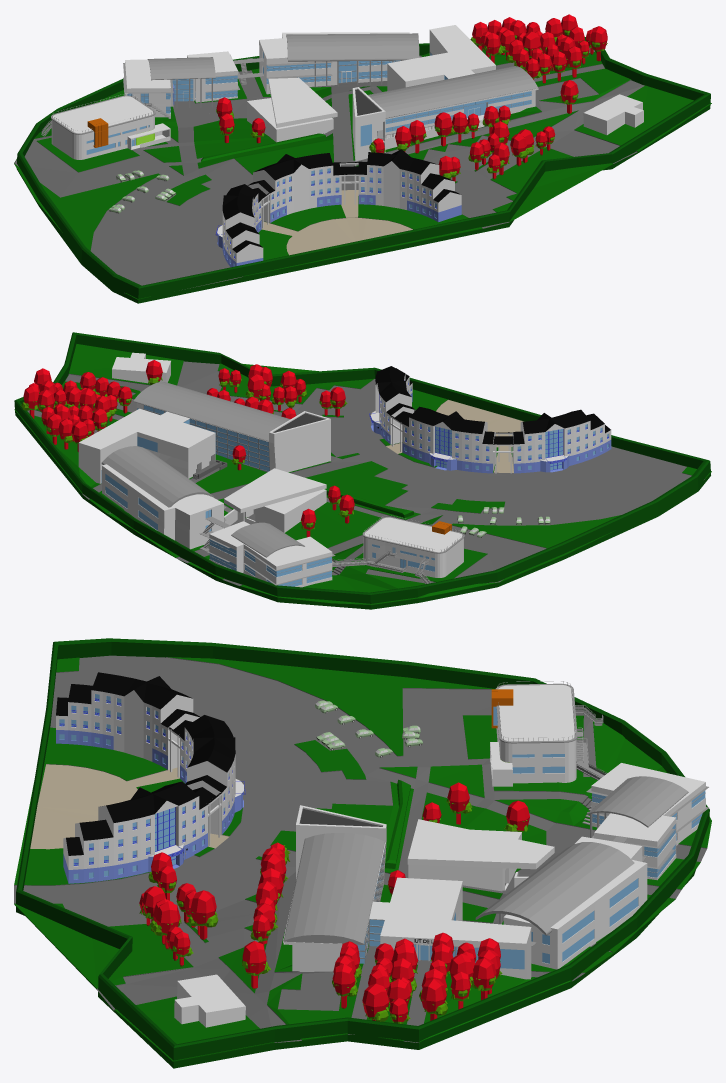
The model's file is iut-v1.glb.
3 renders of one model, top to bottom at view 1: azimuth 30°, elevation 25°; view 2: azimuth 150°, elevation 25°; view 3: azimuth 270°, elevation 25°, orthographic. The views are drawn at different scales.
Visible parts, largest first — view 1: sol, bordures, Bat-crouss, Bat-gb, batiment.002, bat-mmi, Bat-info, Bat.bu, Bat-cafet, Bat-sante, buisson; view 2: sol, bordures, Bat-crouss, Bat-gb, batiment.002, bat-mmi, Bat-cafet, Bat-info, Bat.bu, Bat-sante, buisson; view 3: sol, bordures, Bat-crouss, Bat-gb, batiment.002, bat-mmi, Bat-info, Bat-cafet, Bat.bu, GN Instance (×4), Bat-sante, buisson.
Boxes of the visible parts, bbox=[...] form: sol: bbox=[14, 47, 711, 299]; bordures: bbox=[16, 37, 710, 303]; Bat-crouss: bbox=[215, 149, 461, 267]; Bat-gb: bbox=[352, 66, 538, 161]; batiment.002: bbox=[259, 32, 419, 94]; bat-mmi: bbox=[123, 51, 263, 118]; Bat-info: bbox=[41, 93, 170, 159]; Bat.bu: bbox=[247, 77, 337, 142]; Bat-cafet: bbox=[387, 25, 495, 90]; Bat-sante: bbox=[583, 94, 643, 135]; buisson: bbox=[201, 133, 326, 165]; sol: bbox=[14, 344, 711, 605]; bordures: bbox=[14, 332, 710, 609]; Bat-crouss: bbox=[369, 366, 611, 473]; Bat-gb: bbox=[133, 381, 330, 472]; batiment.002: bbox=[101, 446, 226, 549]; bat-mmi: bbox=[199, 516, 406, 587]; Bat-cafet: bbox=[78, 408, 215, 483]; Bat-info: bbox=[362, 515, 464, 583]; Bat.bu: bbox=[224, 468, 326, 532]; Bat-sante: bbox=[112, 352, 170, 383]; buisson: bbox=[324, 487, 413, 517]; sol: bbox=[14, 655, 711, 1061]; bordures: bbox=[16, 638, 709, 1068]; Bat-crouss: bbox=[56, 672, 245, 883]; Bat-gb: bbox=[283, 805, 386, 971]; batiment.002: bbox=[475, 836, 647, 969]; bat-mmi: bbox=[576, 727, 708, 880]; Bat-info: bbox=[490, 681, 603, 786]; Bat-cafet: bbox=[369, 877, 531, 979]; Bat.bu: bbox=[407, 819, 554, 891]; GN Instance (×4): bbox=[190, 890, 446, 1020]; Bat-sante: bbox=[174, 974, 245, 1027]; buisson: bbox=[385, 779, 410, 868].
Size of what is drawn, in the model's own units: 196 by 20.44 by 134.
